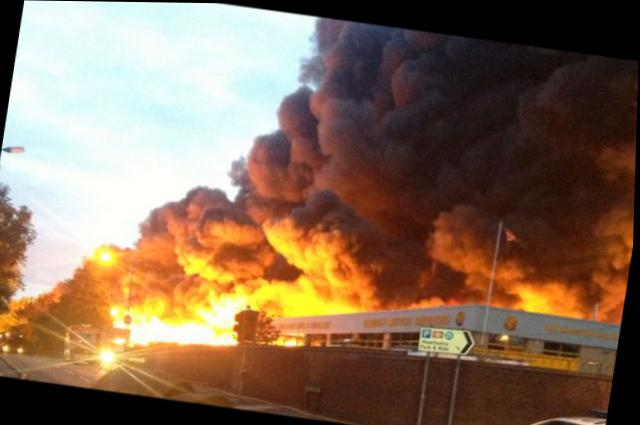fire: (132, 280, 248, 357), (251, 286, 345, 322)
smoke: (164, 2, 639, 307), (120, 245, 438, 304)
